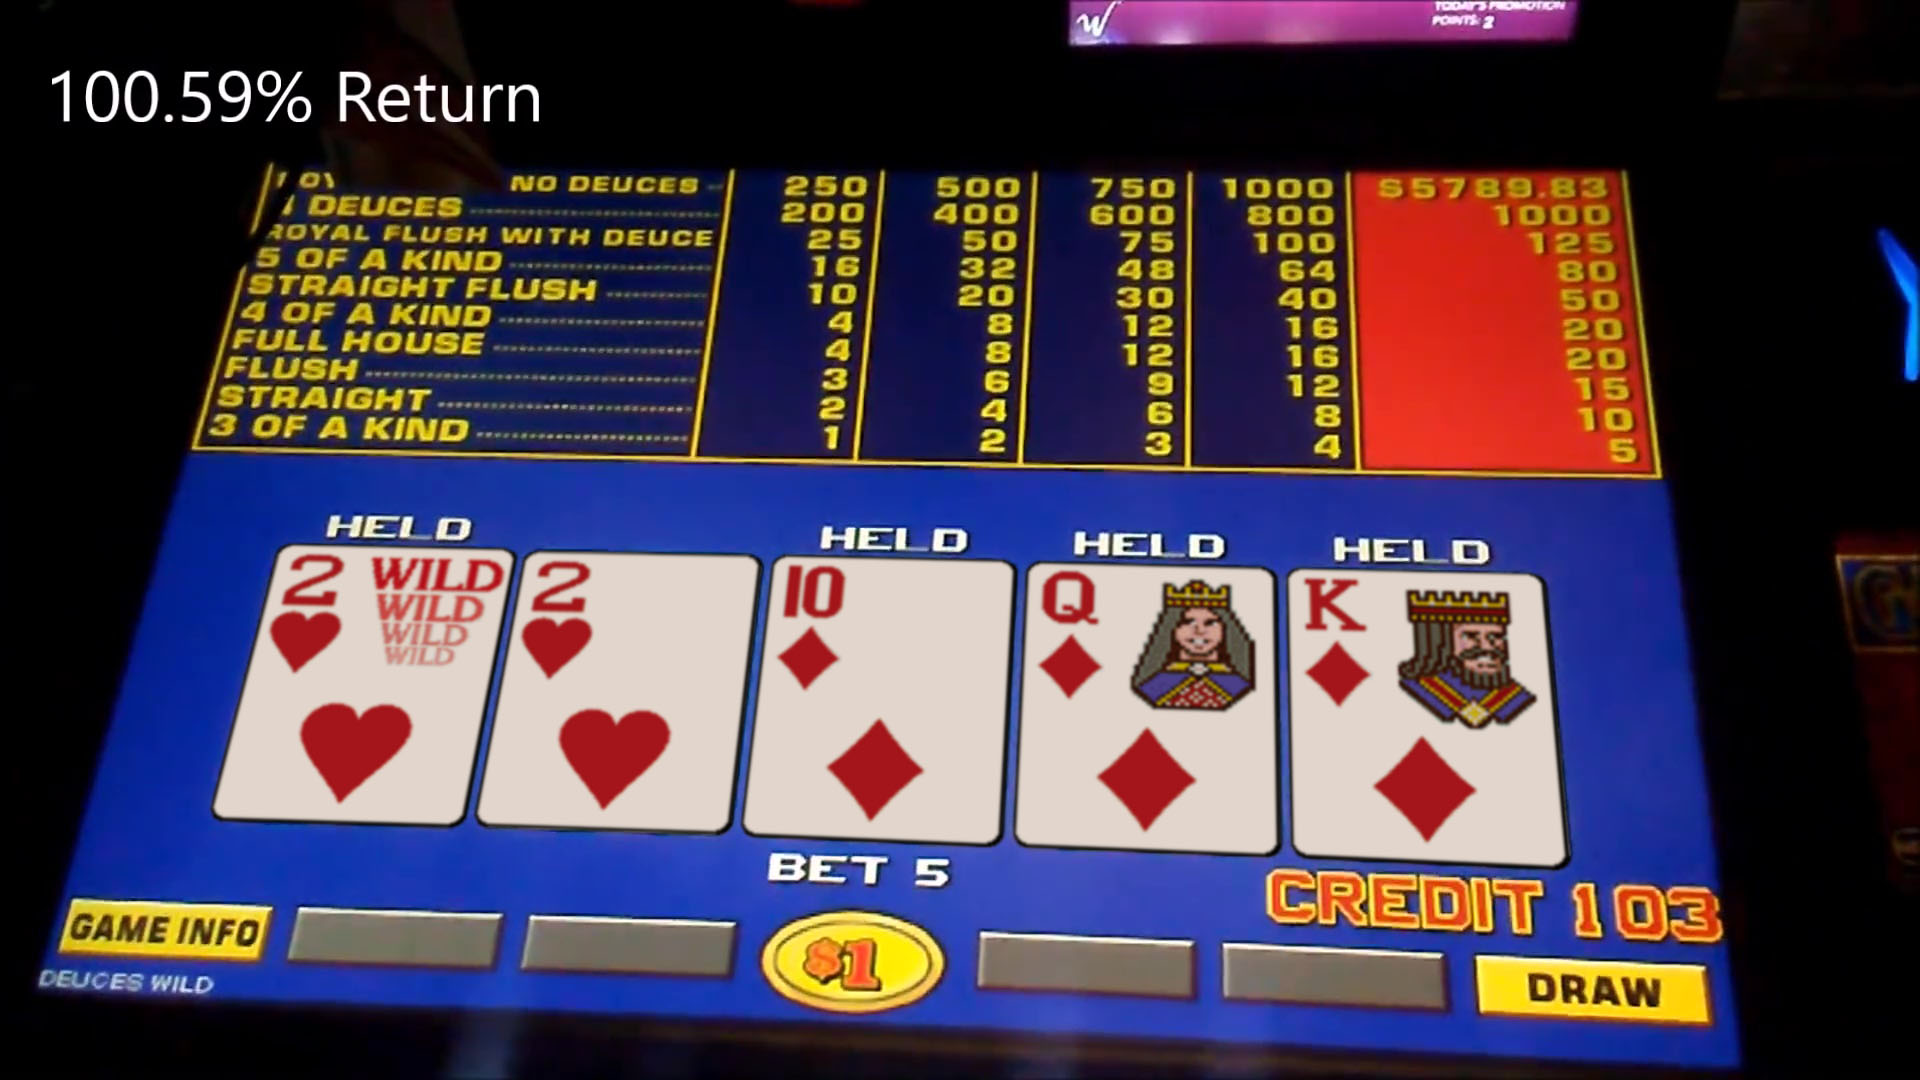DK: (1294, 575, 1553, 855)
DQ: (1029, 564, 1270, 853)
DT: (771, 558, 997, 843)
H2: (522, 553, 735, 828)
H2W: (265, 549, 472, 819)
